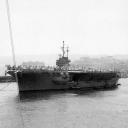Portanaves: (4, 40, 123, 96)
